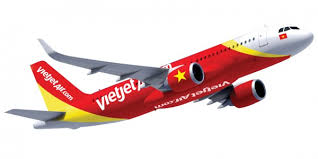maybay_dansu: (12, 31, 313, 123)
